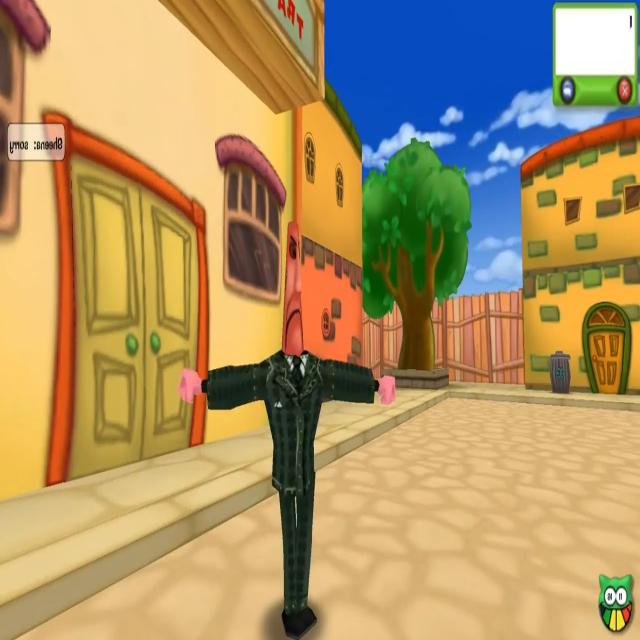pennypincher: (206, 259, 375, 640)
